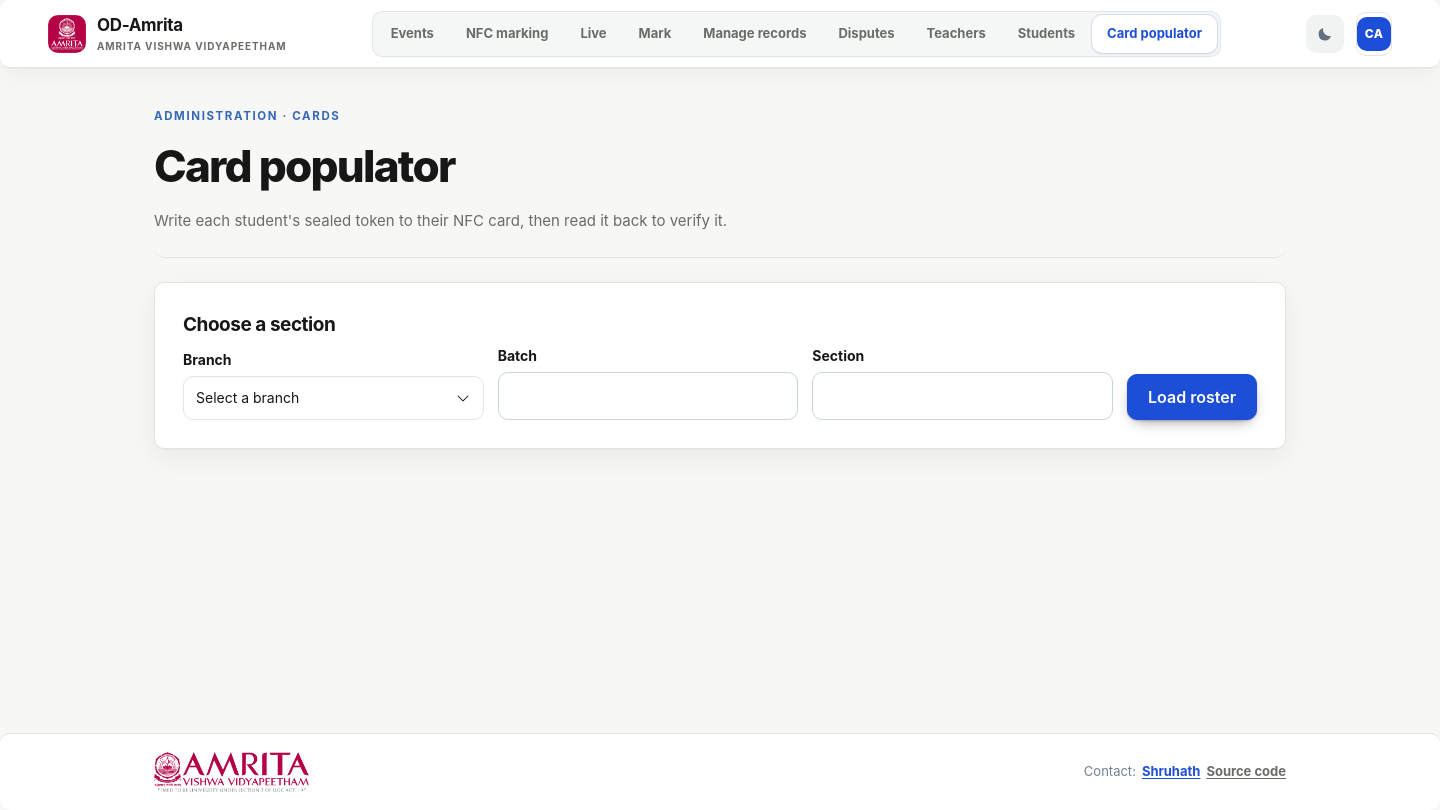
Test: Card populator portal › [P0] requires a complete section before loading the roster
The image size is (1440, 810).
Expected: the heading "Card populator" is shown, [154,139,455,193]
Click the dropdown labelled "branch" at x=248, y=398, box [183,376,484,420]
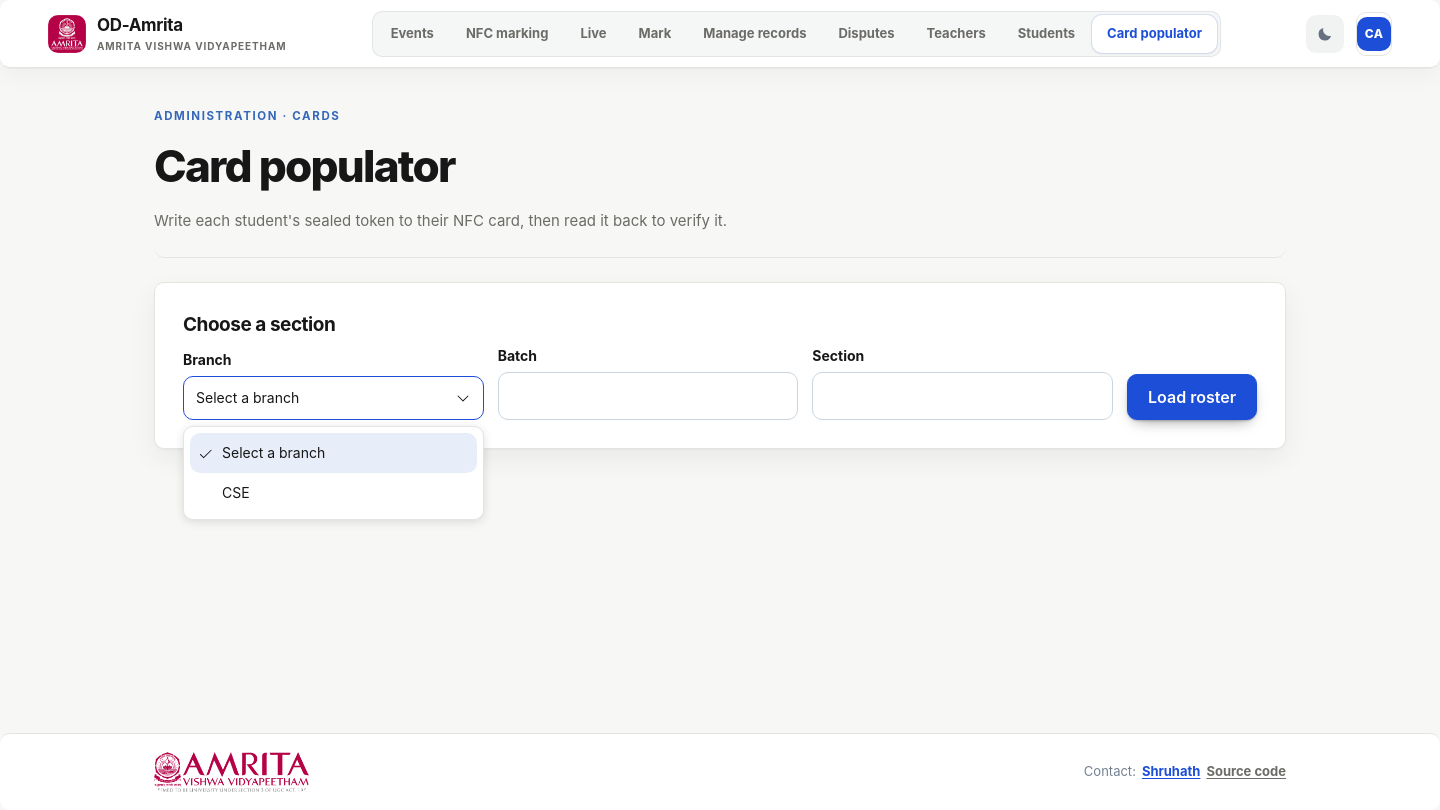
Click the option "CSE" at x=236, y=492, box [222,484,250,501]
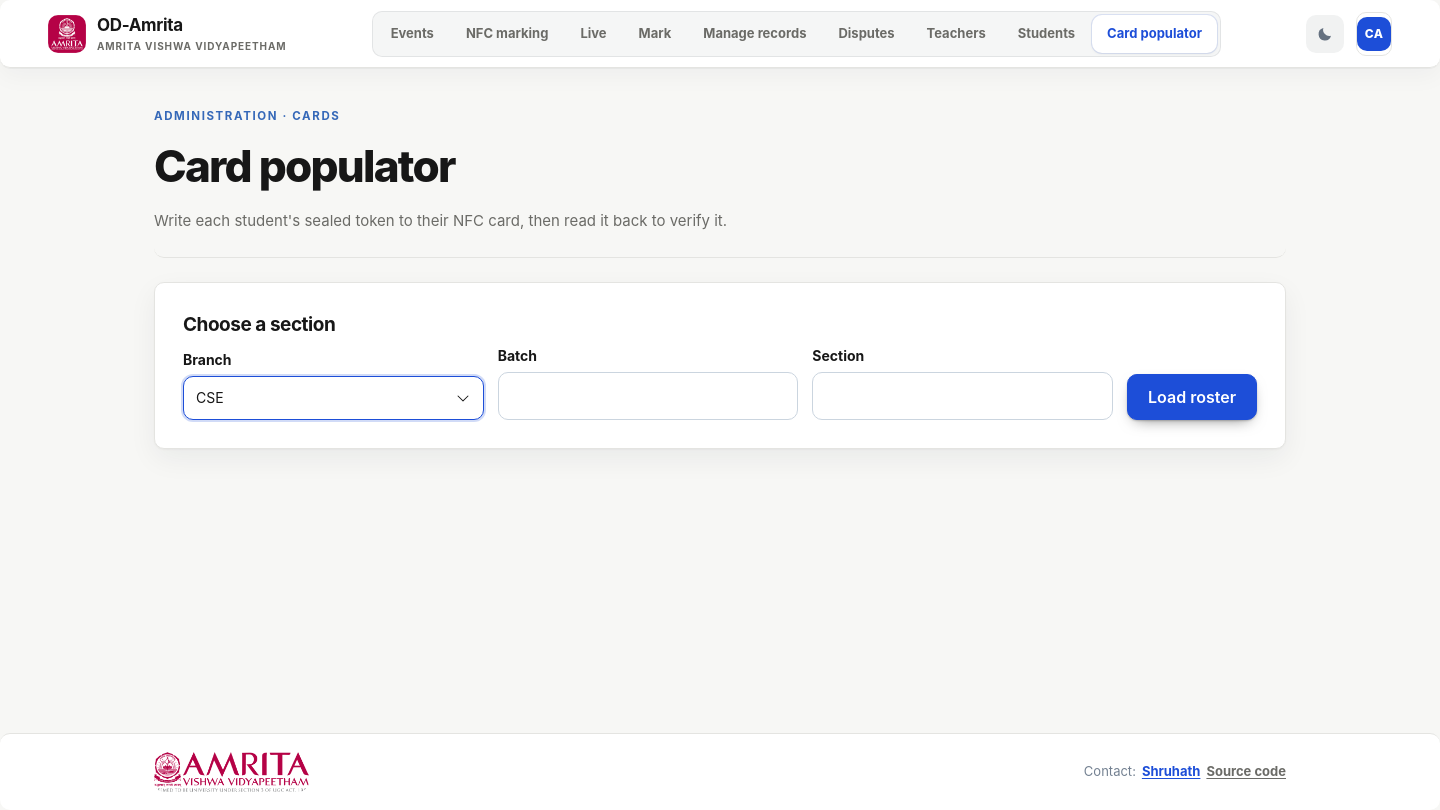
Click the button "Load roster" at x=1192, y=397, box [1127,374,1257,420]
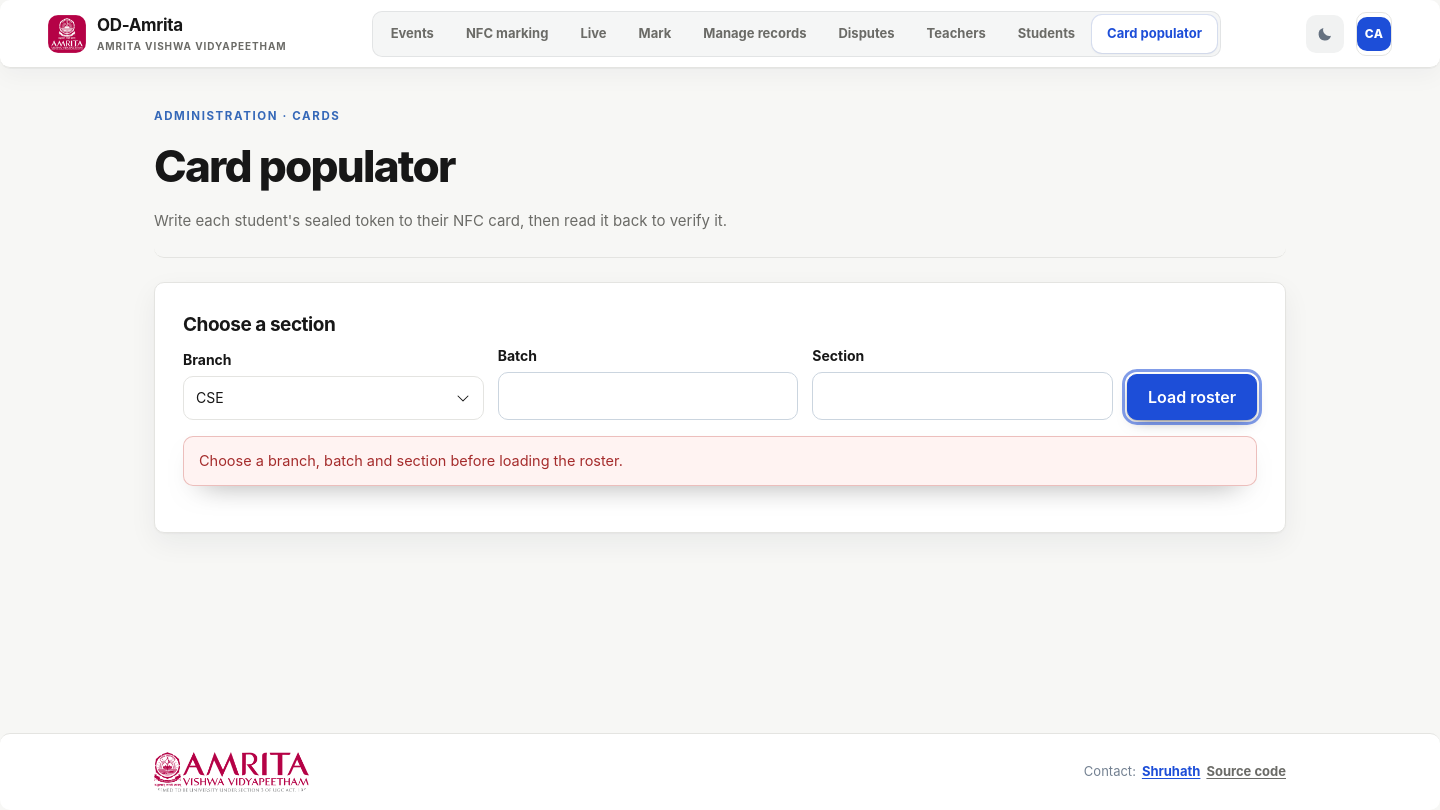
Expected: the message shows "branch, batch and section", [199,452,623,469]
